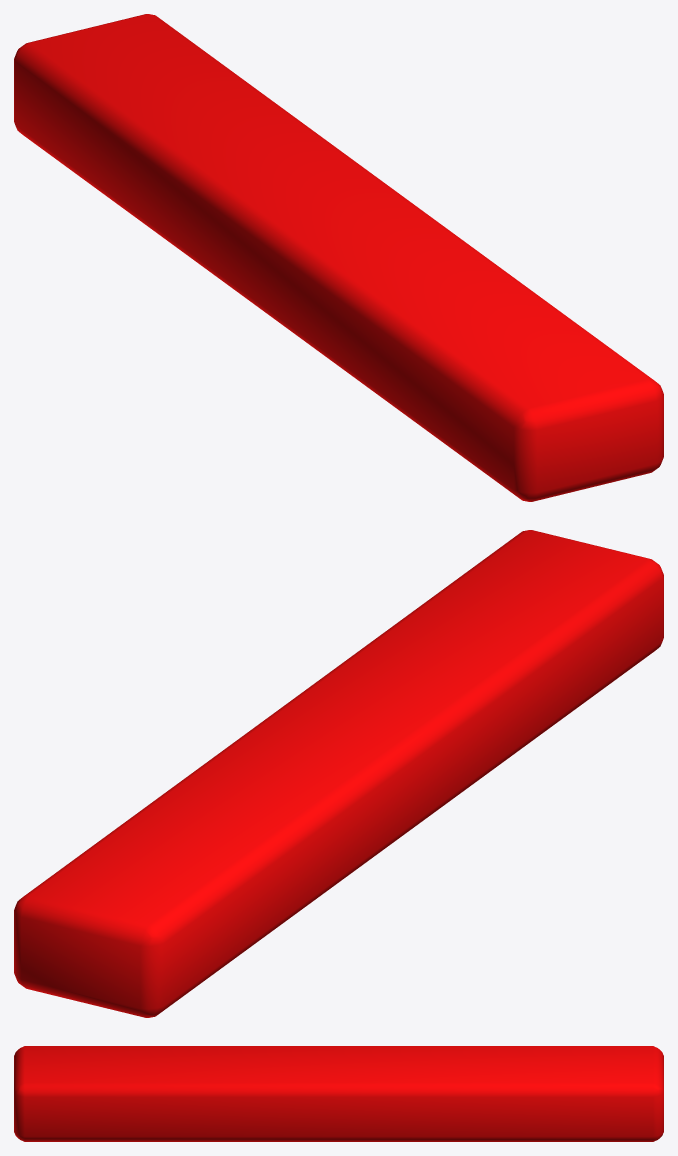
File: LongBlockRed.fbx
3 renders of one model, top to bottom at view 1: azimuth 30°, elevation 25°; view 2: azimuth 150°, elevation 25°; view 3: azimuth 270°, elevation 25°, orthographic. The views are drawn at different scales.
Visible parts, largest first — view 1: LongBlock; view 2: LongBlock; view 3: LongBlock.
Boxes of the visible parts, box(x1,y1,x2,y2) form: LongBlock: box(14, 14, 663, 501); LongBlock: box(14, 530, 663, 1017); LongBlock: box(14, 1046, 663, 1141).
Size of the model in its own units: 2 by 1.2 by 12.
